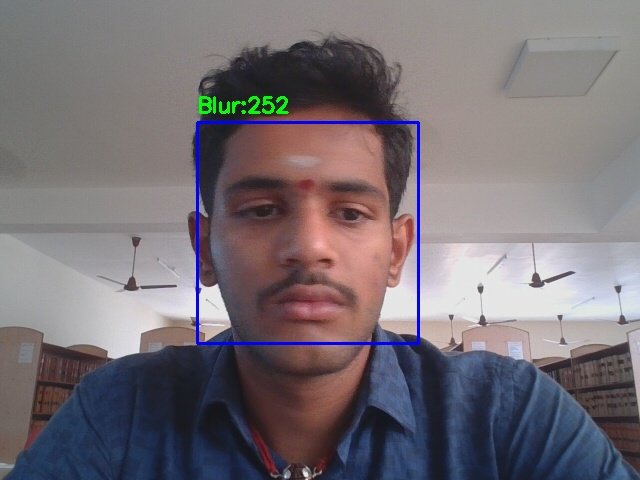real: (197, 122, 418, 343)
